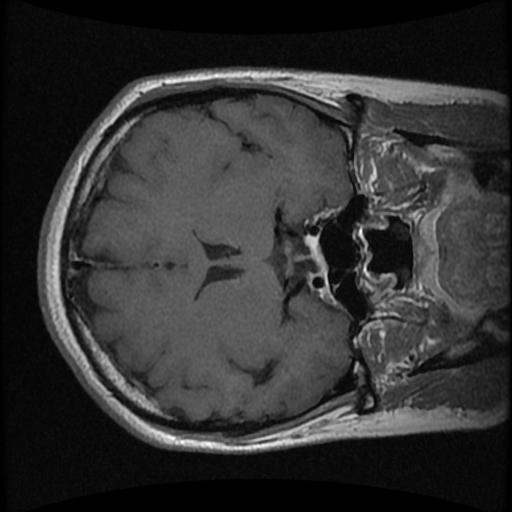pituitary tumour: (304, 235, 329, 277)
